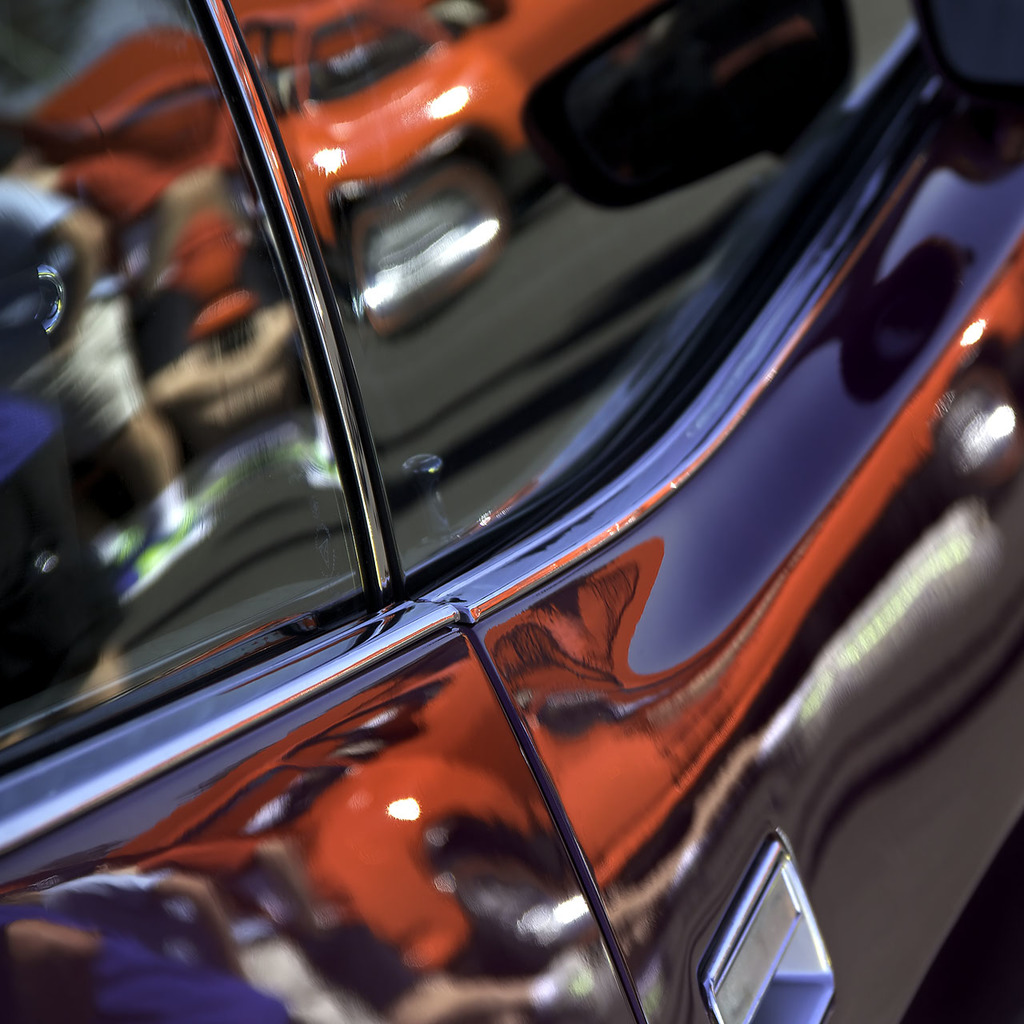Car: (0, 0, 1022, 983)
